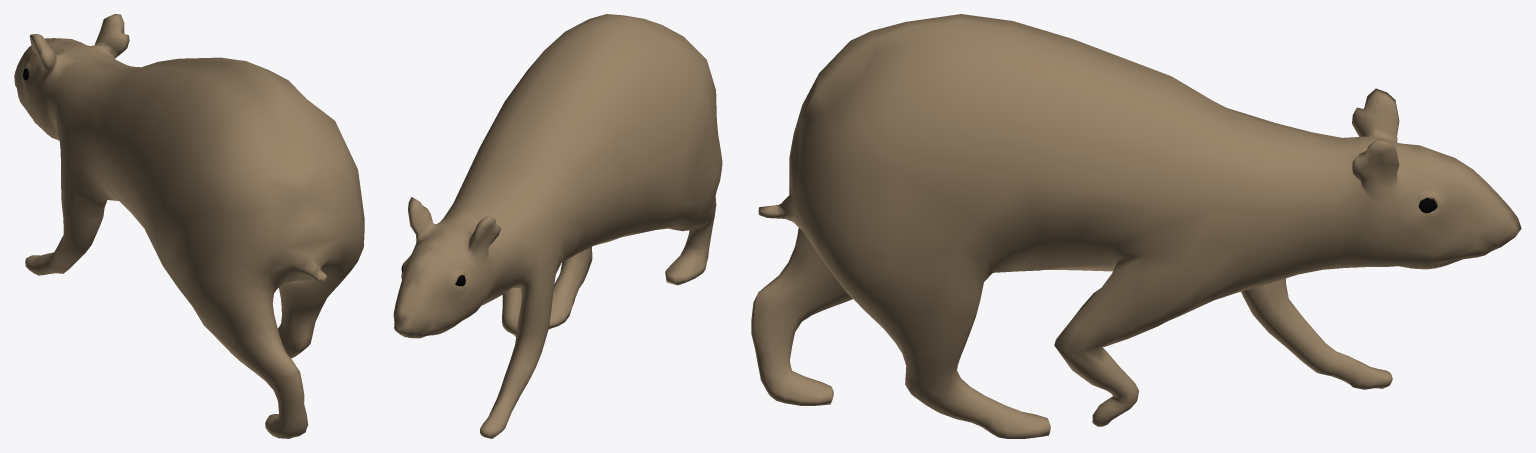
Rendered from AGOUTI_puff_noskirt.fbx.
3 views of the same model, side by side, from view 1: azimuth 30°, elevation 25°; view 2: azimuth 150°, elevation 25°; view 3: azimuth 270°, elevation 25° (orthographic). The views are drawn at different scales.
Parts seen in each view (by area): view 1: agouti_puff_noskirt; view 2: agouti_puff_noskirt; view 3: agouti_puff_noskirt.
Boxes of the visible parts, x1,y1,x2,y2 form: agouti_puff_noskirt: [14, 14, 364, 438]; agouti_puff_noskirt: [393, 14, 722, 438]; agouti_puff_noskirt: [751, 14, 1521, 438].
Bounding box in the file's own units: 478 × 831 × 1484.
